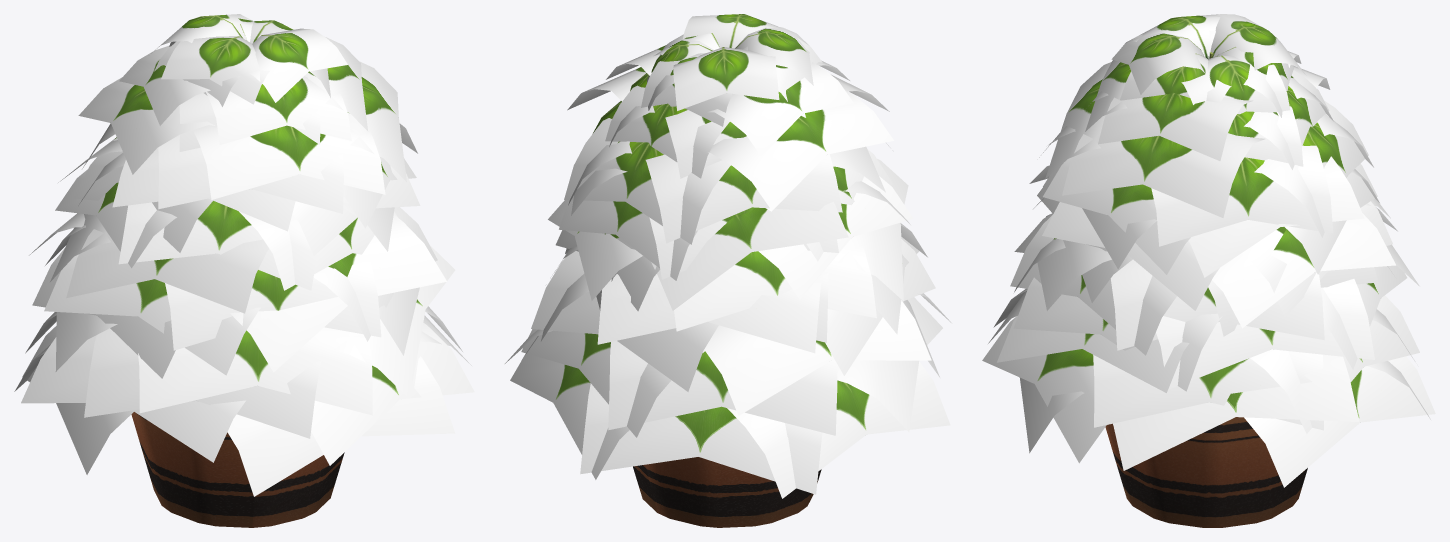
Rendered from Plant.fbx.
3 views of the same model, side by side, from view 1: azimuth 30°, elevation 25°; view 2: azimuth 150°, elevation 25°; view 3: azimuth 270°, elevation 25° (orthographic). The views are drawn at different scales.
Visible parts, largest first — view 1: Leaf_stack9, Plant3; view 2: Leaf_stack9, Plant3; view 3: Leaf_stack9, Plant3.
Part boxes in pixels (x1,y1,x2,y2): Leaf_stack9: [14, 14, 474, 496]; Plant3: [131, 412, 344, 527]; Leaf_stack9: [505, 14, 951, 498]; Plant3: [633, 457, 821, 527]; Leaf_stack9: [982, 14, 1435, 487]; Plant3: [1105, 52, 1307, 527].
Bounding box in the file's own units: 49.38 × 56.14 × 50.22.
